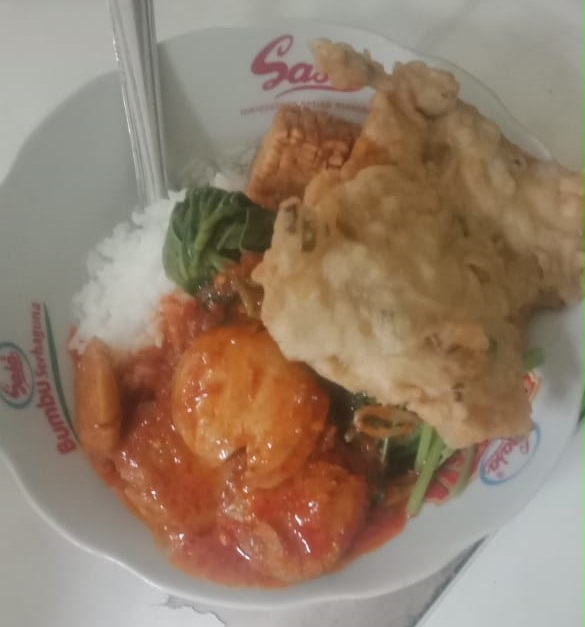Gorengan: (359, 72, 576, 410)
Nasi: (59, 196, 164, 339)
Sayur_bayam: (171, 179, 250, 281)
Semur_jengkol: (60, 386, 340, 582)
tempe: (252, 103, 328, 167)
